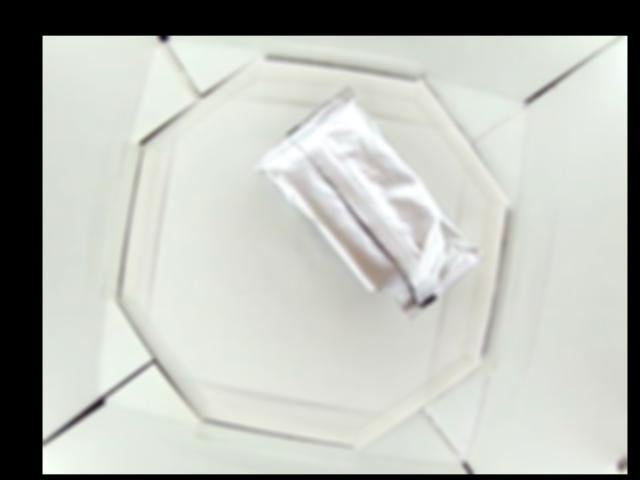Medicine: (257, 88, 479, 320)
